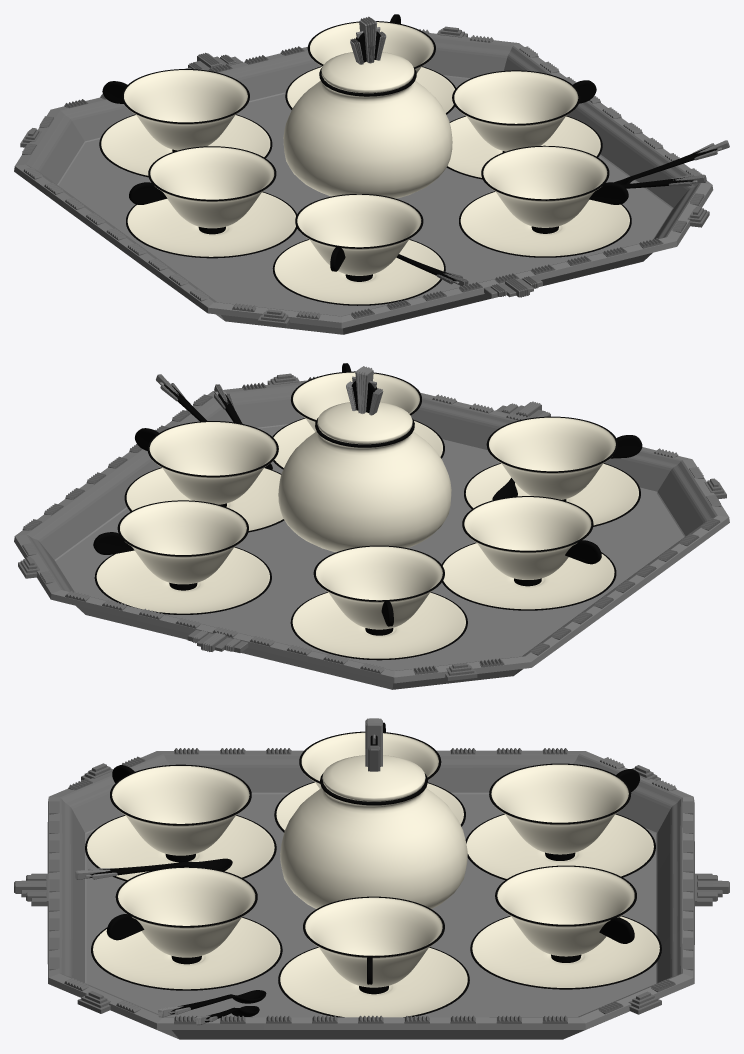
File: TeaSet.fbx
3 renders of one model, top to bottom at view 1: azimuth 30°, elevation 25°; view 2: azimuth 150°, elevation 25°; view 3: azimuth 270°, elevation 25°, orthographic. The views are drawn at different scales.
Visible parts, largest first — view 1: Art_deco_coffee_set_040, Art_deco_coffee_set_066, Art_deco_coffee_set_056, Art_deco_coffee_set_037, Art_deco_coffee_set_052, Art_deco_coffee_set_060, Art_deco_coffee_set_045, Art_deco_coffee_set_039, Art_deco_coffee_set_058, Art_deco_coffee_set_062, Art_deco_coffee_set_054, Art_deco_coffee_set_046 (+7 smaller); view 2: Art_deco_coffee_set_040, Art_deco_coffee_set_066, Art_deco_coffee_set_048, Art_deco_coffee_set_056, Art_deco_coffee_set_045, Art_deco_coffee_set_060, Art_deco_coffee_set_052, Art_deco_coffee_set_054, Art_deco_coffee_set_050, Art_deco_coffee_set_058, Art_deco_coffee_set_062, Art_deco_coffee_set_046 (+7 smaller); view 3: Art_deco_coffee_set_040, Art_deco_coffee_set_066, Art_deco_coffee_set_060, Art_deco_coffee_set_052, Art_deco_coffee_set_037, Art_deco_coffee_set_045, Art_deco_coffee_set_048, Art_deco_coffee_set_046, Art_deco_coffee_set_050, Art_deco_coffee_set_039, Art_deco_coffee_set_054, Art_deco_coffee_set_062 (+8 smaller).
Part boxes in pixels (bbox=[...]): Art_deco_coffee_set_040: bbox=[14, 26, 713, 334]; Art_deco_coffee_set_066: bbox=[283, 67, 452, 198]; Art_deco_coffee_set_056: bbox=[148, 146, 276, 234]; Art_deco_coffee_set_037: bbox=[481, 145, 609, 233]; Art_deco_coffee_set_052: bbox=[121, 69, 249, 151]; Art_deco_coffee_set_060: bbox=[295, 194, 423, 281]; Art_deco_coffee_set_045: bbox=[452, 70, 580, 152]; Art_deco_coffee_set_039: bbox=[459, 191, 631, 257]; Art_deco_coffee_set_058: bbox=[126, 191, 297, 258]; Art_deco_coffee_set_062: bbox=[272, 239, 445, 305]; Art_deco_coffee_set_054: bbox=[99, 114, 272, 177]; Art_deco_coffee_set_046: bbox=[446, 116, 602, 179]; Art_deco_coffee_set_040: bbox=[14, 373, 729, 689]; Art_deco_coffee_set_066: bbox=[278, 417, 451, 552]; Art_deco_coffee_set_048: bbox=[117, 500, 248, 590]; Art_deco_coffee_set_056: bbox=[462, 496, 593, 586]; Art_deco_coffee_set_045: bbox=[147, 421, 278, 506]; Art_deco_coffee_set_060: bbox=[486, 416, 617, 500]; Art_deco_coffee_set_052: bbox=[313, 545, 444, 635]; Art_deco_coffee_set_054: bbox=[290, 592, 467, 660]; Art_deco_coffee_set_050: bbox=[94, 547, 271, 614]; Art_deco_coffee_set_058: bbox=[441, 542, 616, 610]; Art_deco_coffee_set_062: bbox=[464, 463, 640, 526]; Art_deco_coffee_set_046: bbox=[124, 467, 284, 532]; Art_deco_coffee_set_040: bbox=[14, 748, 729, 1039]; Art_deco_coffee_set_066: bbox=[280, 773, 467, 908]; Art_deco_coffee_set_060: bbox=[110, 764, 251, 862]; Art_deco_coffee_set_052: bbox=[489, 763, 631, 860]; Art_deco_coffee_set_037: bbox=[115, 866, 257, 964]; Art_deco_coffee_set_045: bbox=[303, 896, 444, 994]; Art_deco_coffee_set_048: bbox=[495, 865, 636, 962]; Art_deco_coffee_set_046: bbox=[278, 947, 469, 1017]; Art_deco_coffee_set_050: bbox=[470, 915, 661, 989]; Art_deco_coffee_set_039: bbox=[91, 917, 282, 990]; Art_deco_coffee_set_054: bbox=[465, 813, 655, 879]; Art_deco_coffee_set_062: bbox=[85, 815, 276, 881].
Size of the model in its own units: 481 by 154 by 498.
